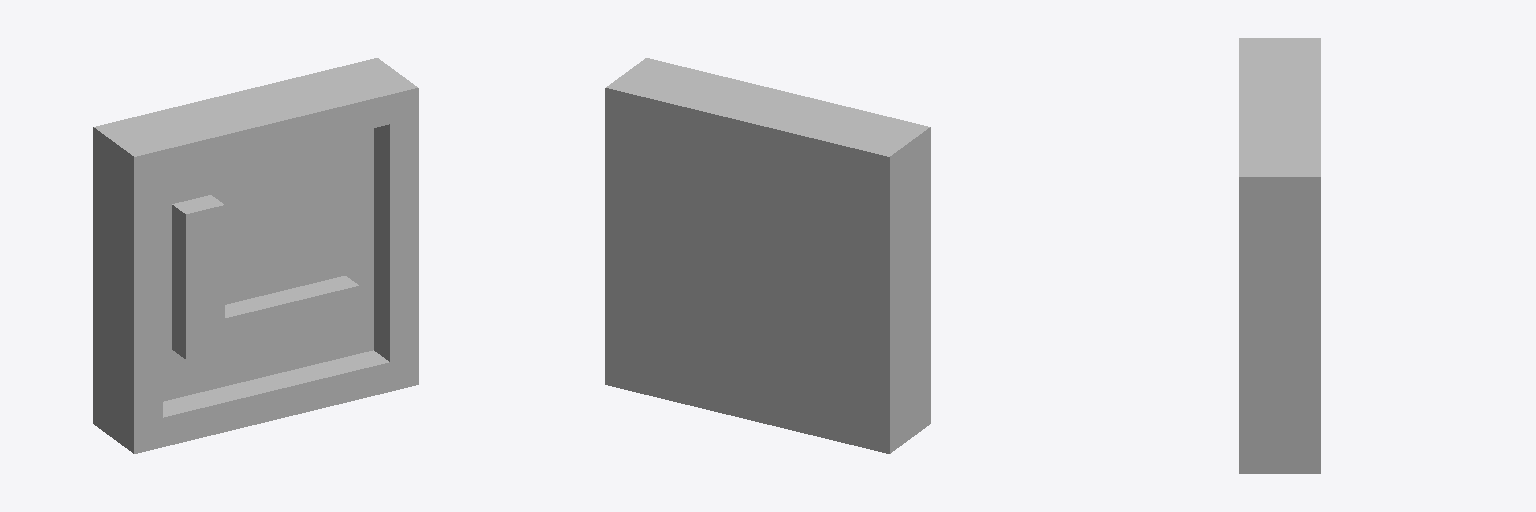
Rendered from block_ㄴ.obj.
3 views of the same model, side by side, from view 1: azimuth 30°, elevation 25°; view 2: azimuth 150°, elevation 25°; view 3: azimuth 270°, elevation 25° (orthographic).
Visible parts, largest first — view 1: obj_0; view 2: obj_0; view 3: obj_0.
Boxes of the visible parts, x1=… form: obj_0: x1=93, y1=58, x2=418, y2=453; obj_0: x1=605, y1=58, x2=930, y2=453; obj_0: x1=1239, y1=38, x2=1320, y2=473.
Bounding box in the file's own units: 20 × 20 × 5.